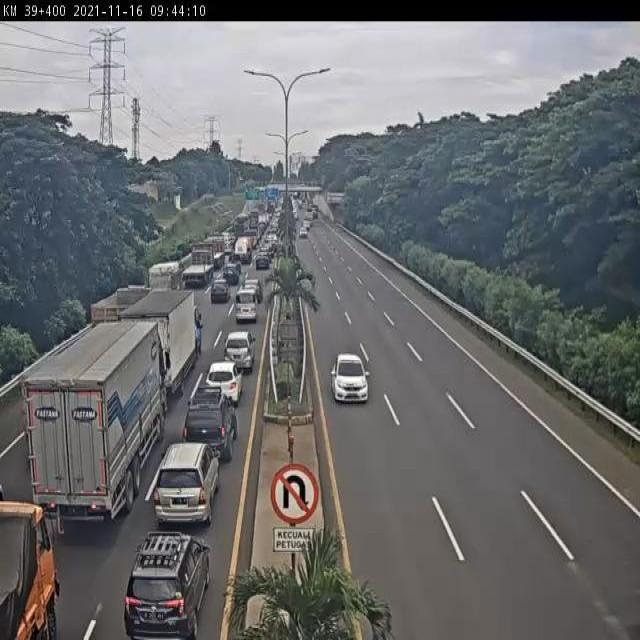car: (136, 530, 210, 626), (155, 438, 229, 526), (186, 389, 243, 459), (328, 343, 383, 412), (222, 328, 257, 388), (213, 353, 243, 416), (234, 288, 259, 325), (212, 280, 232, 307)
truck-l-: (30, 320, 164, 524), (182, 241, 216, 288)
truck-m-: (128, 287, 215, 392), (149, 260, 183, 301)
